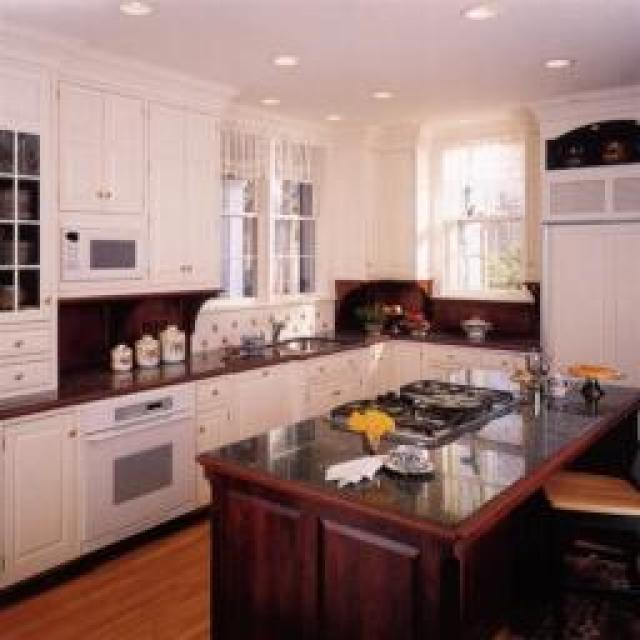curtains: (218, 118, 318, 300)
indoor-plant: (0, 0, 638, 638)
table: (192, 378, 638, 638)
window: (428, 130, 530, 300)
